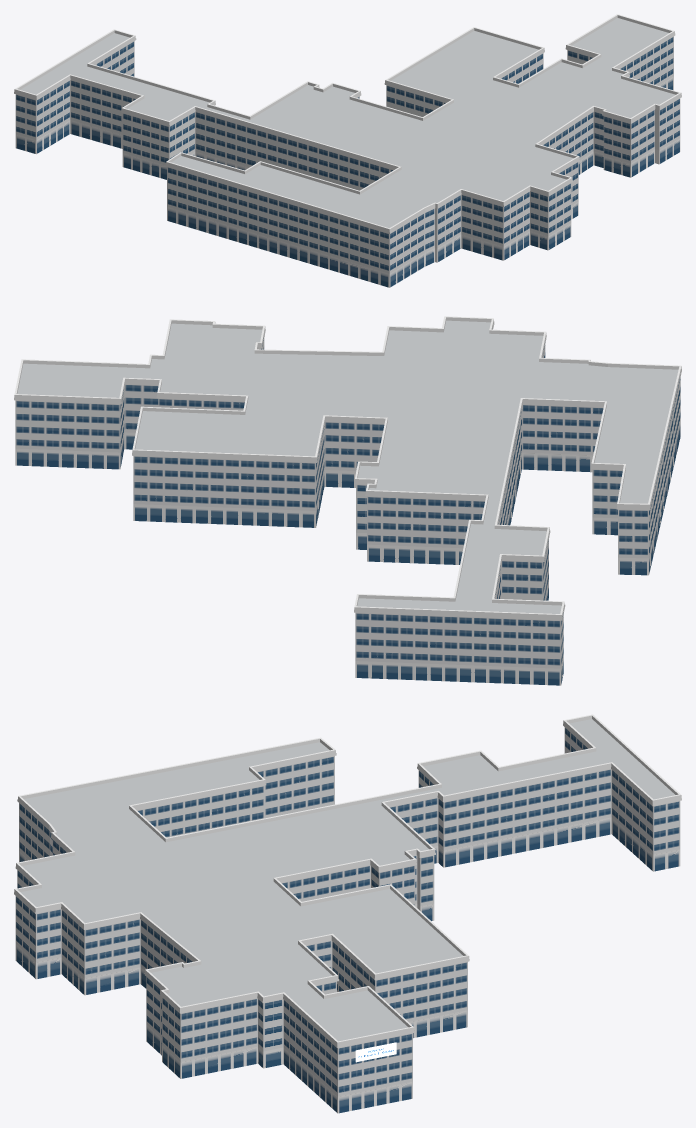
The model's file is hospital.glb.
The picture shows the model from 3 angles, top to bottom: view 1: azimuth 30°, elevation 25°; view 2: azimuth 150°, elevation 25°; view 3: azimuth 270°, elevation 25°; orthographic projection. The views are drawn at different scales.
Parts seen in each view (by area): view 1: hospital_lod0; view 2: hospital_lod0; view 3: hospital_lod0.
Boxes of the visible parts, x1=… form: hospital_lod0: x1=14, y1=14, x2=681, y2=287; hospital_lod0: x1=14, y1=316, x2=681, y2=685; hospital_lod0: x1=14, y1=714, x2=681, y2=1113.
Size of what is drawn, in the model's own units: 207 by 20.99 by 178.
5 materials, 3 textured.
